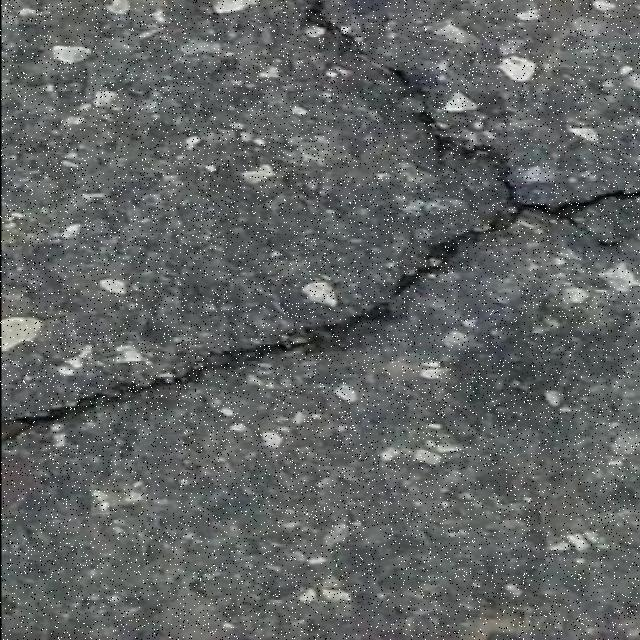Crack: (18, 120, 640, 430), (299, 0, 440, 113)
